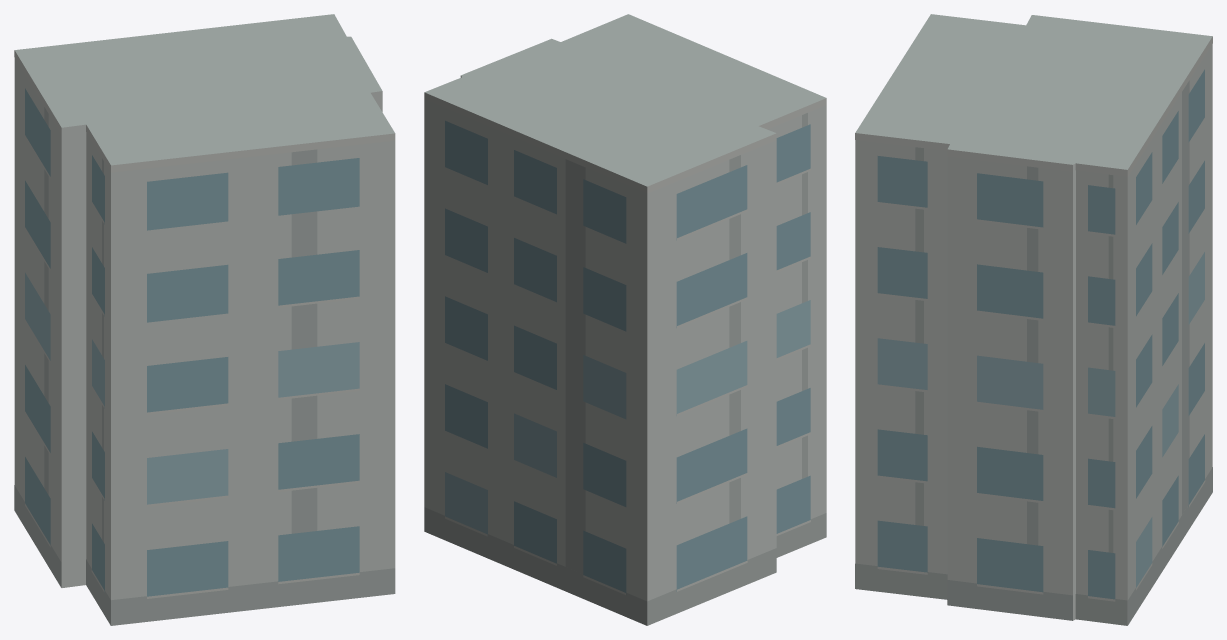
File: survey-upis-32497545.glb
The picture shows the model from 3 angles, left to right: view 1: azimuth 30°, elevation 25°; view 2: azimuth 150°, elevation 25°; view 3: azimuth 270°, elevation 25°; orthographic projection. The views are drawn at different scales.
Visible parts, largest first — view 1: survey-upis-32497545.tmp; view 2: survey-upis-32497545.tmp; view 3: survey-upis-32497545.tmp.
Boxes of the visible parts, left/top/right/bottom form: survey-upis-32497545.tmp: left=14, top=14, right=395, bottom=625; survey-upis-32497545.tmp: left=424, top=14, right=826, bottom=625; survey-upis-32497545.tmp: left=855, top=14, right=1212, bottom=625.
Size of the model in its own units: 11.42 by 15.56 by 11.07.
